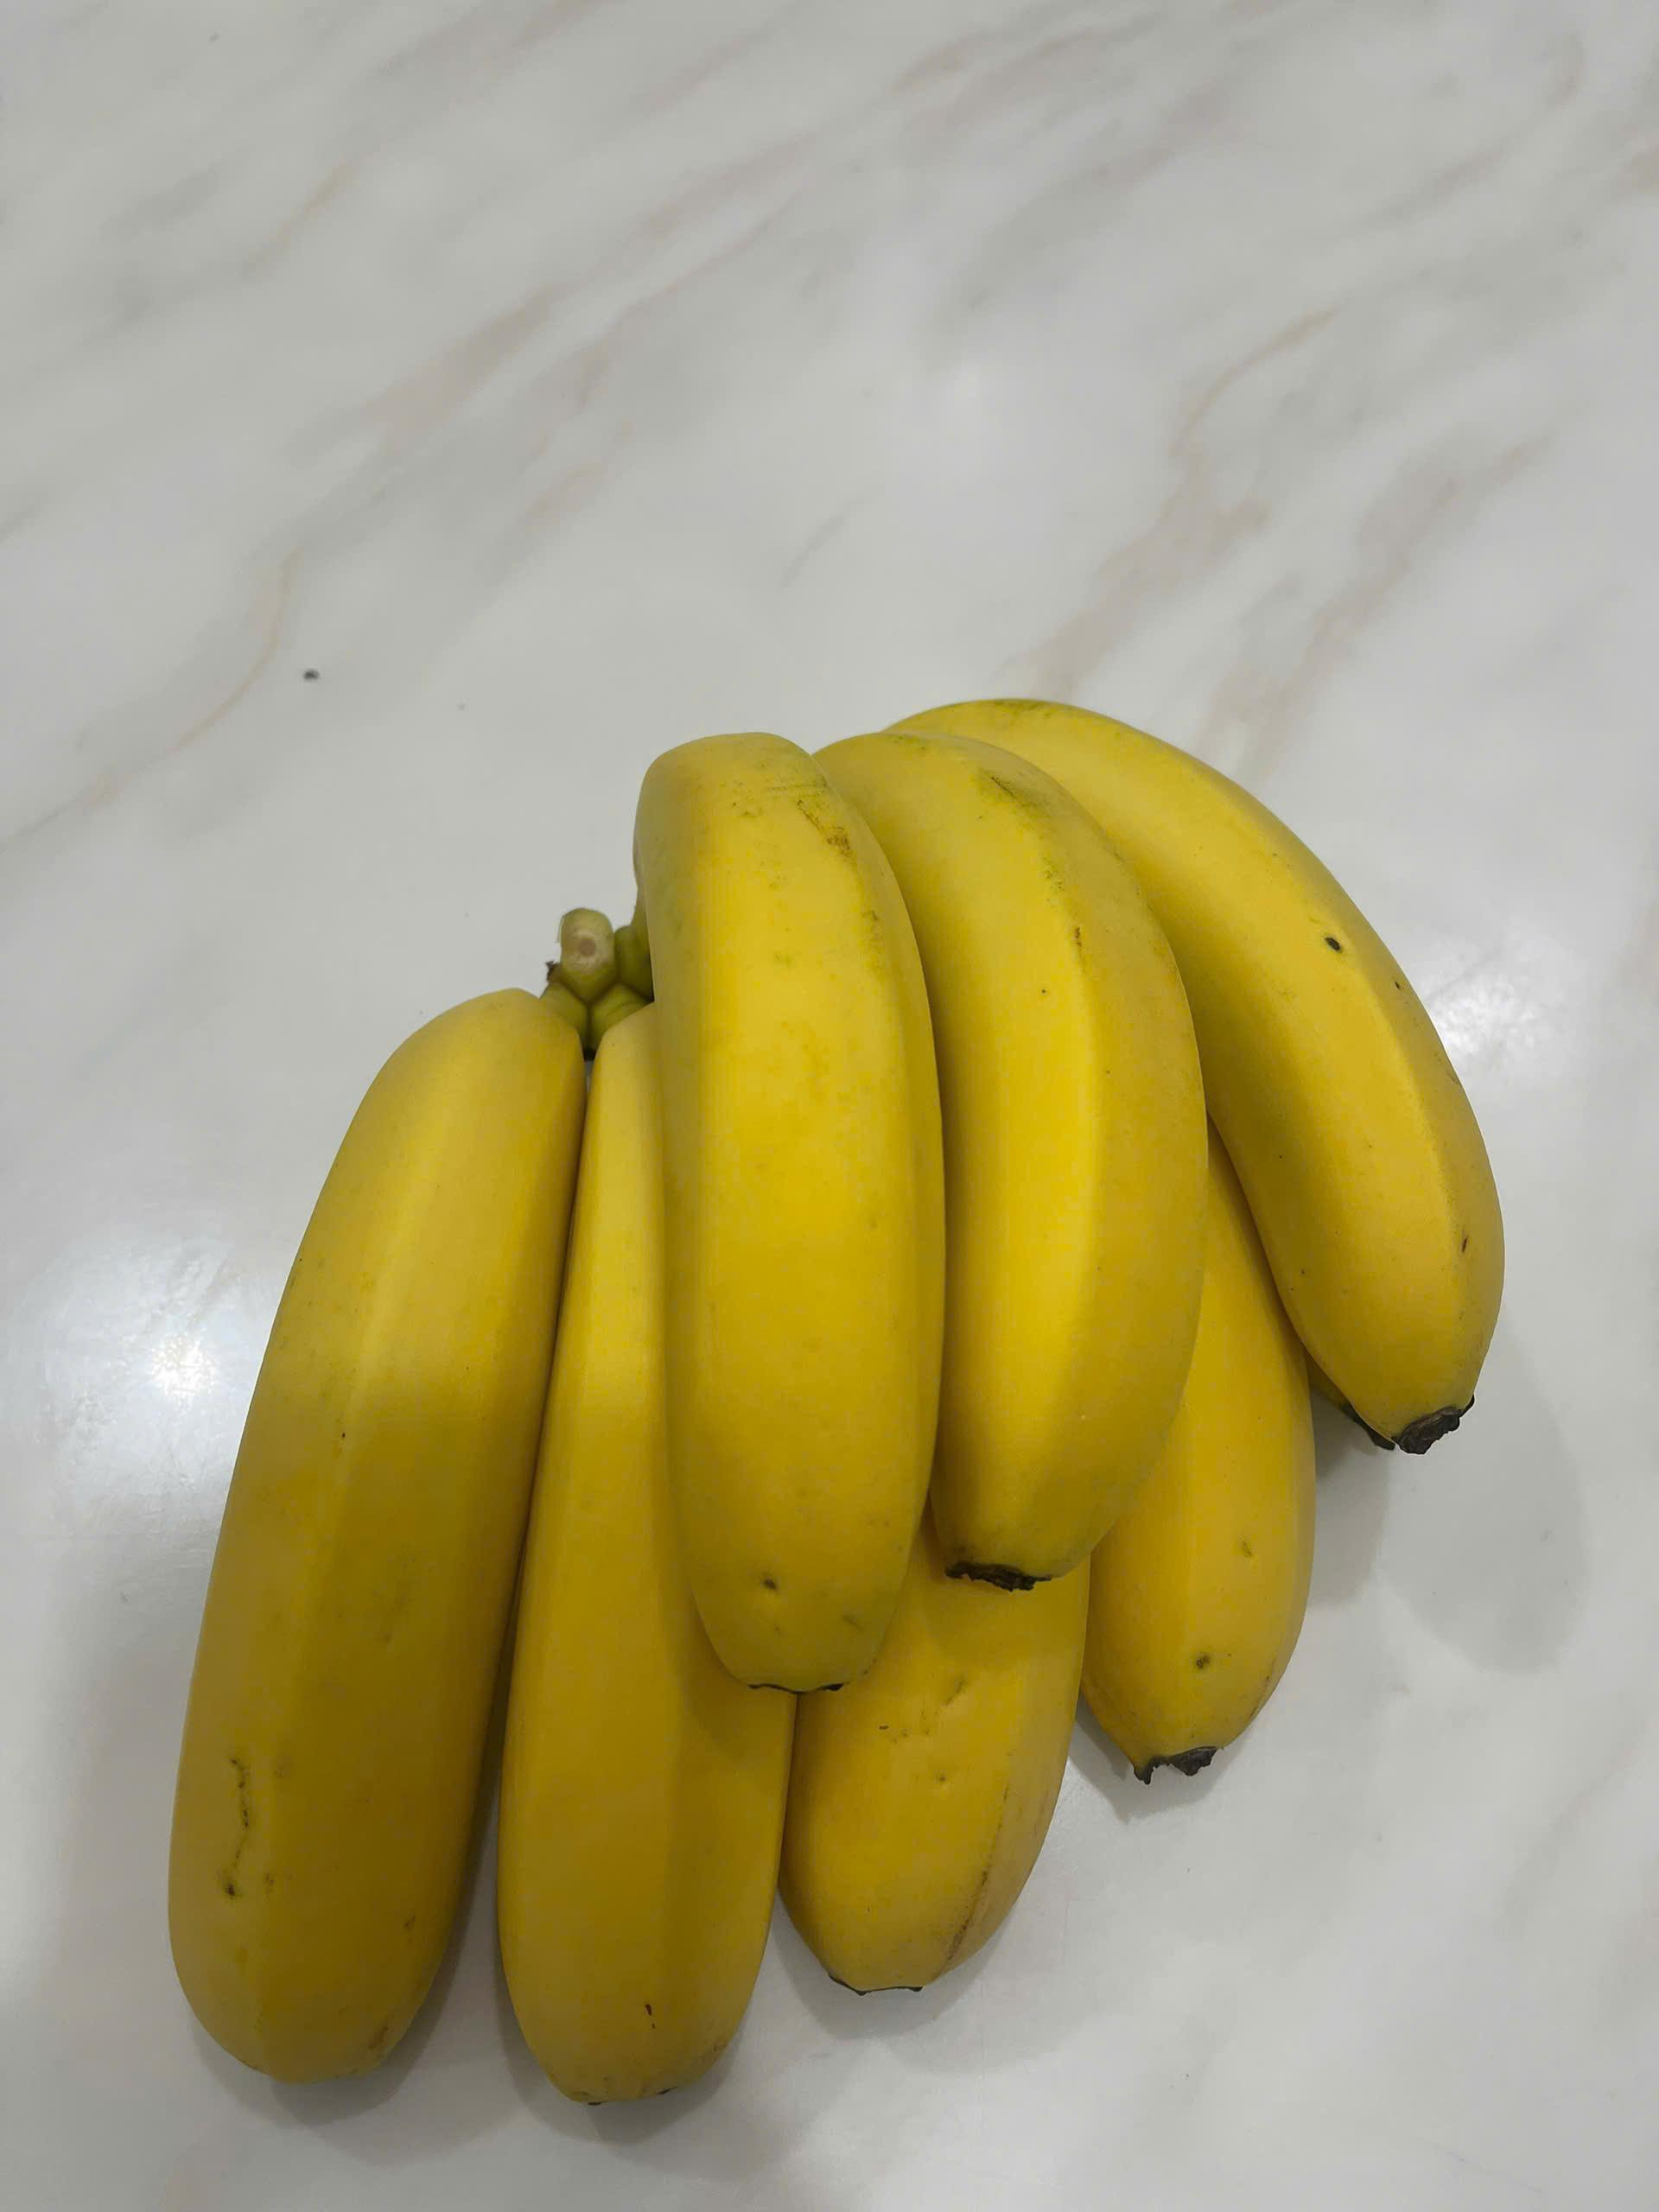banana: (127, 663, 1542, 2145), (136, 939, 609, 2108), (585, 700, 988, 1680)
